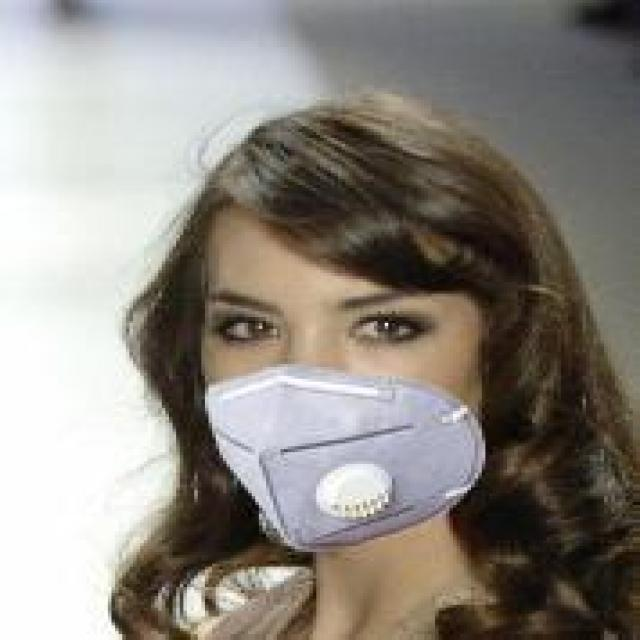mask: (140, 91, 554, 593)
